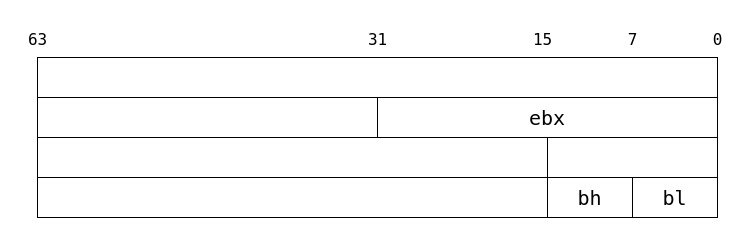
Some shapes in this 749 by 235 pixel diagram are drawn without their labels. The centre of each missing label's shape, as x and y in pixels:
"bx" belongs at pixel 632 157.
"rbx(r3)" belongs at pixel 377 77.
